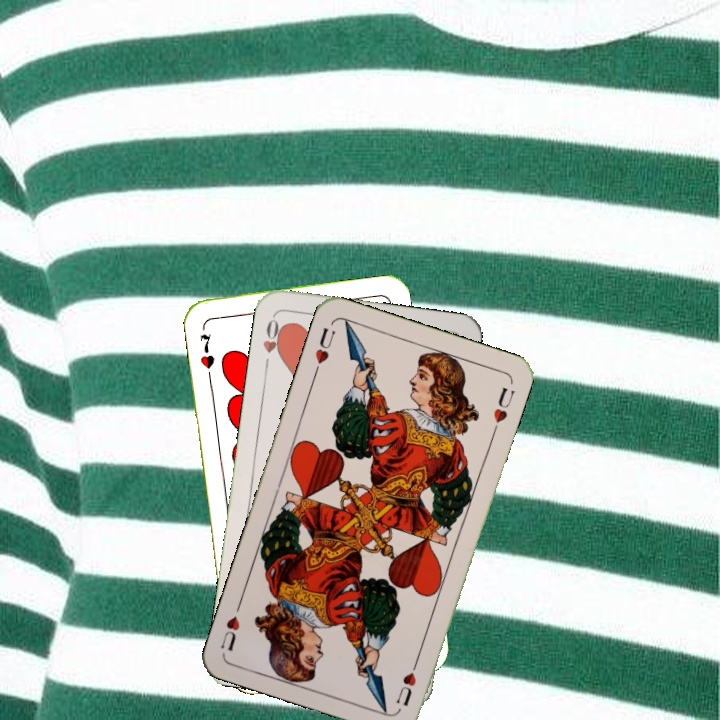H7: (195, 329, 217, 381)
HO: (259, 313, 287, 372)
HU: (392, 654, 422, 709), (310, 323, 338, 378)
